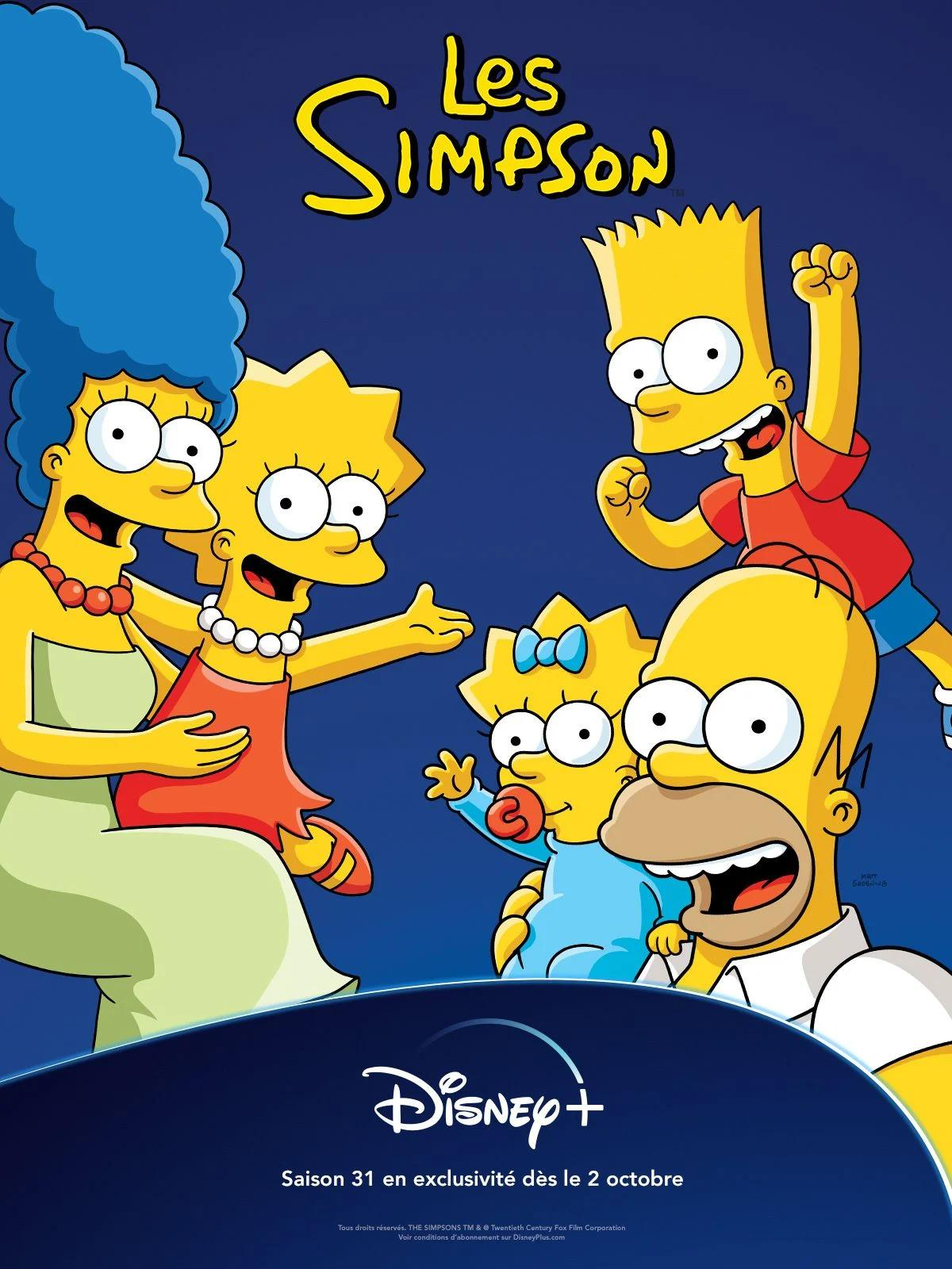Bart: (537, 196, 952, 587)
Homer: (613, 553, 952, 1018), (413, 582, 679, 1010)
Lisa: (118, 342, 455, 906)
Marge: (0, 0, 258, 1164)
